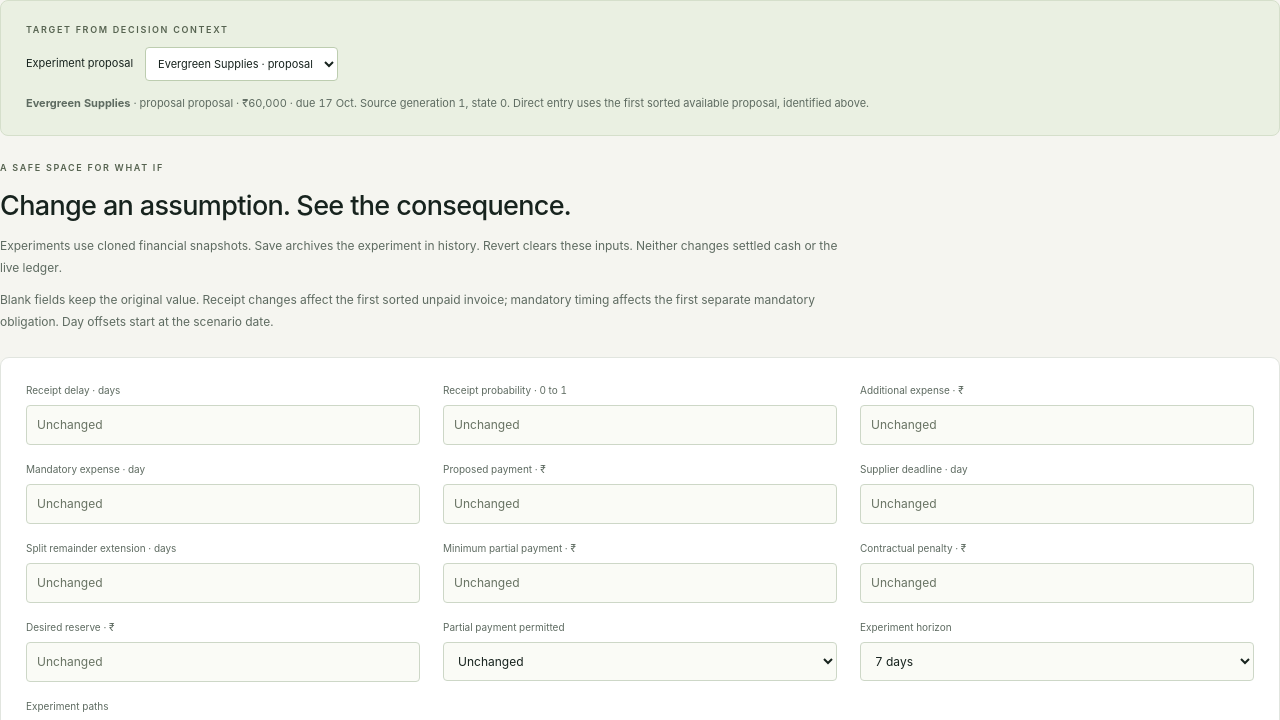
Test: newer response wins when older evaluation resolves last
The width and height of the screenshot is (1280, 720).
Type "1000" into the number field labelled "Additional expense · ₹" at x=1057, y=425, box left=860, top=405, right=1254, bottom=445
(page scrolled)
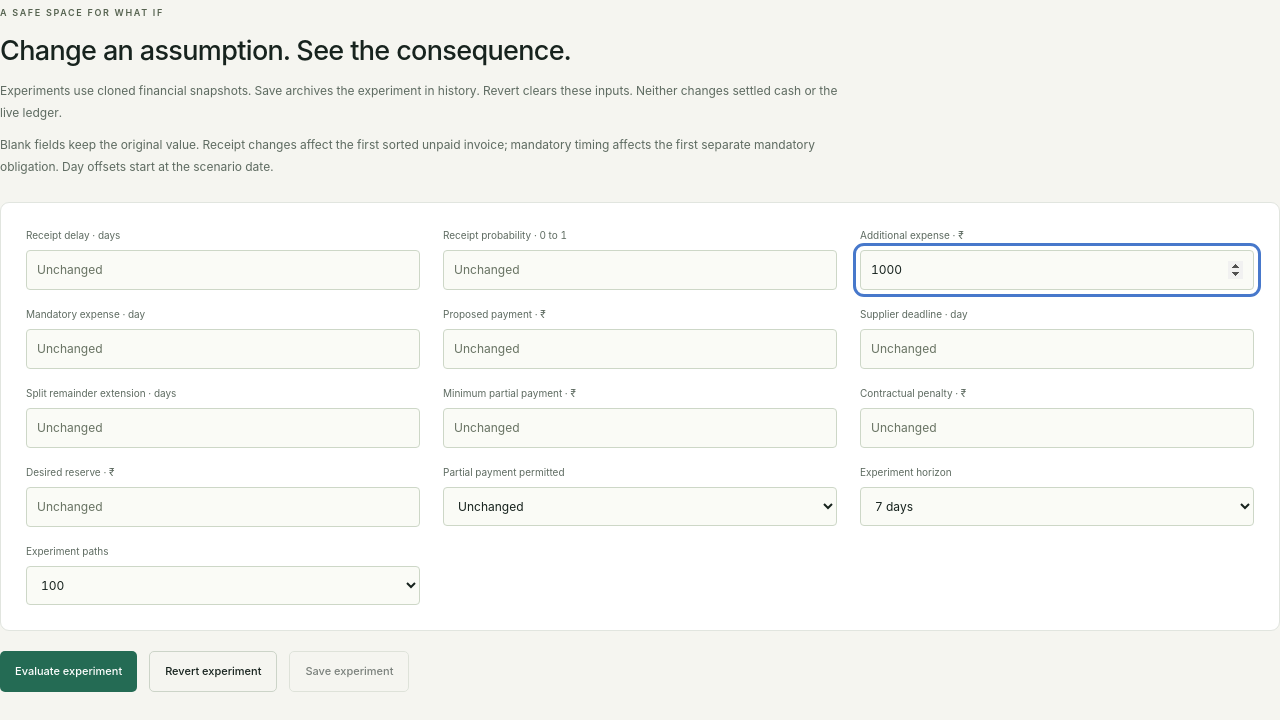
Click the button "Evaluate experiment" at x=69, y=672, box left=0, top=651, right=137, bottom=692
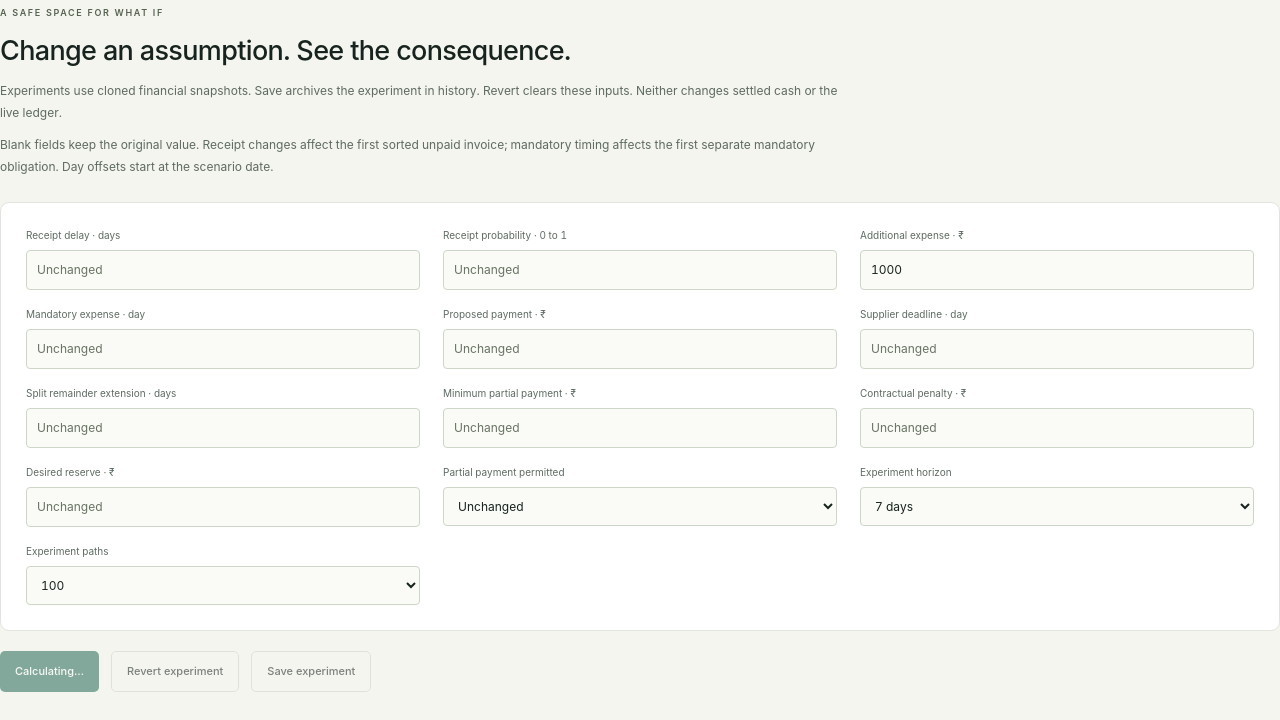
Replace the text in the number field labelled "Additional expense · ₹" with "2000" at x=1057, y=270, box left=860, top=250, right=1254, bottom=290
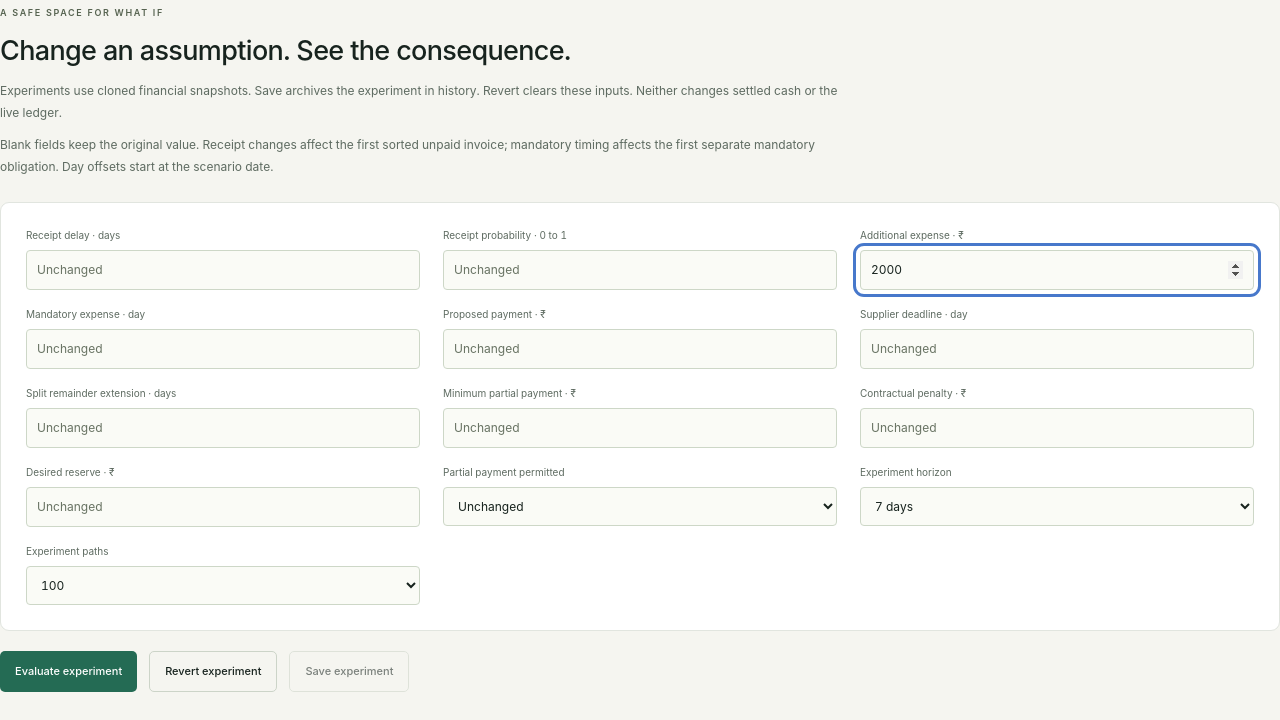
Click the button "Evaluate experiment" at x=69, y=672, box left=0, top=651, right=137, bottom=692
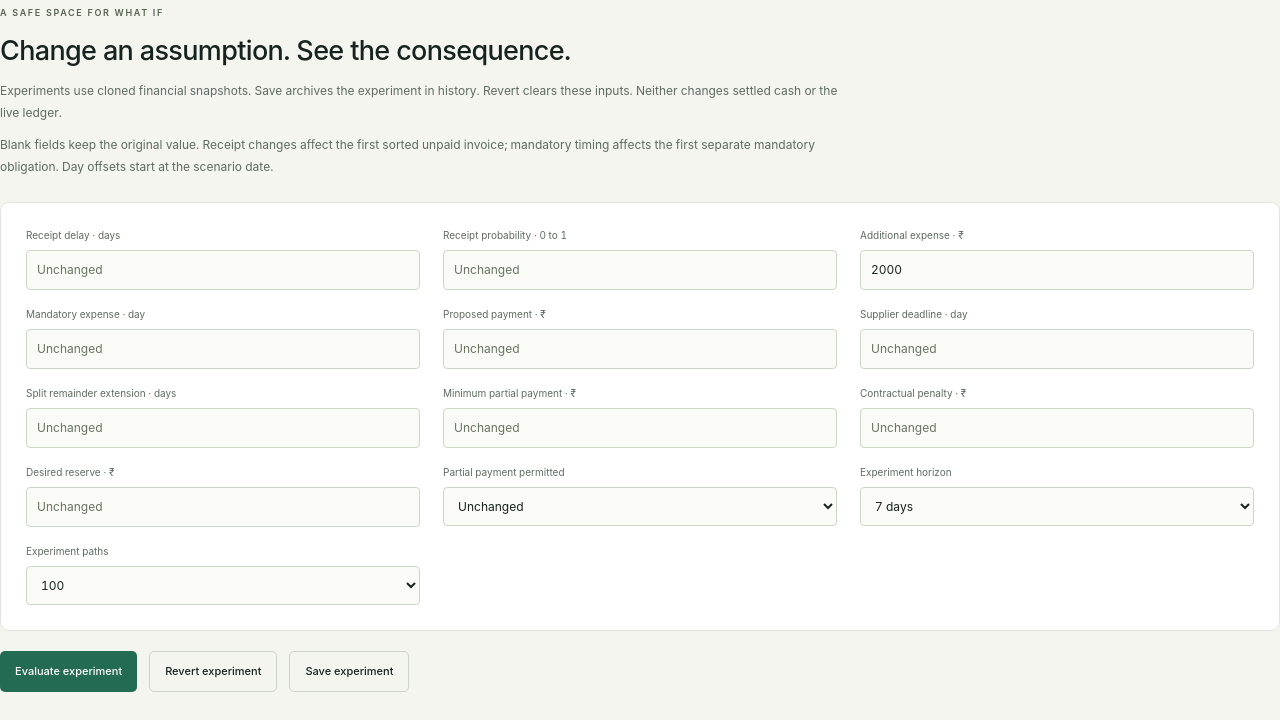
Check: the button "Save experiment" is enabled, box left=289, top=651, right=409, bottom=692
